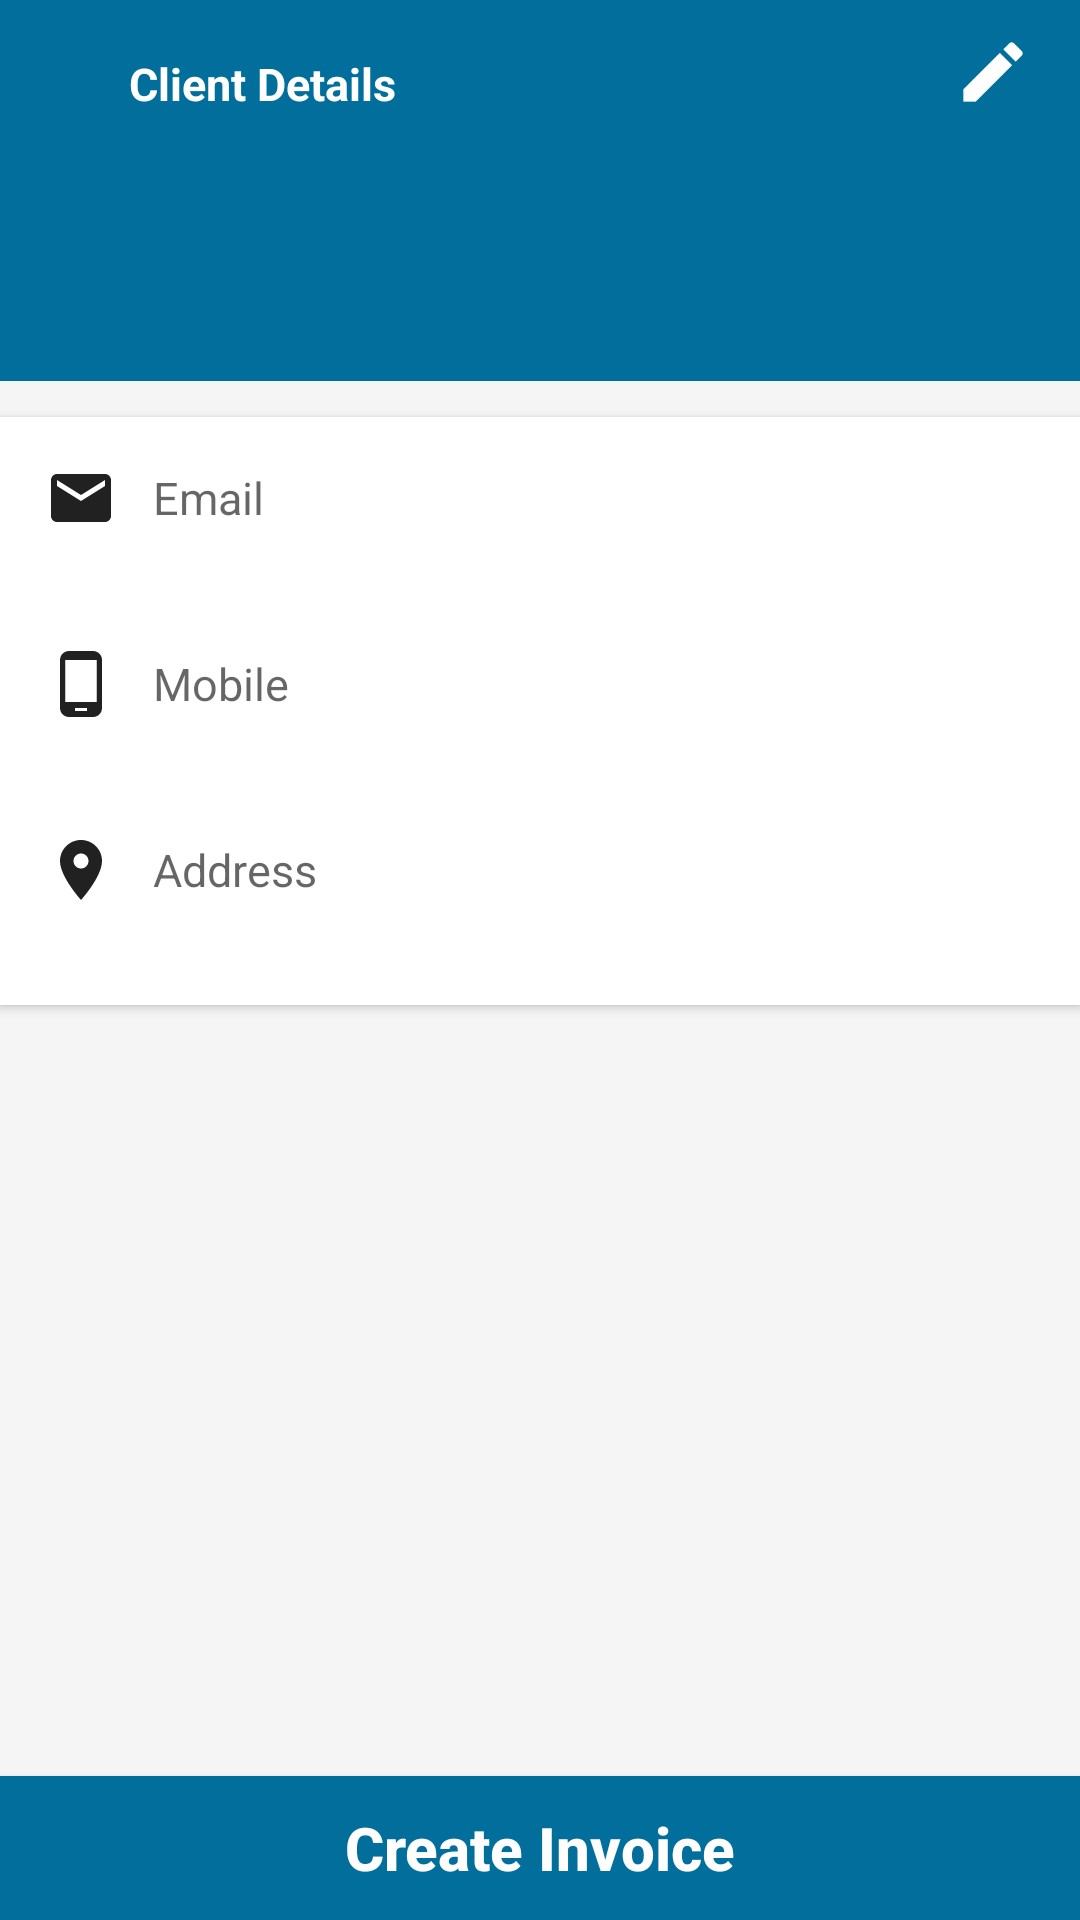

Screen size 1080 x 1920. Icon name, then its box in pixels as {"left": x1, "top": y1, "right": x2, "bottom": y2}:
edit: {"left": 963, "top": 42, "right": 1023, "bottom": 102}
